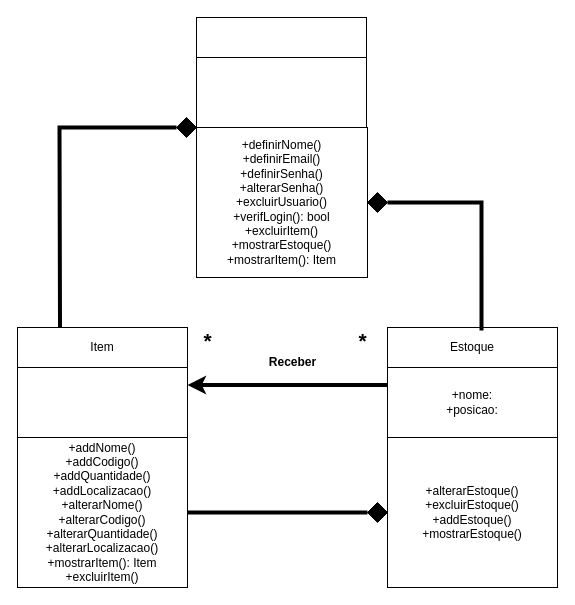
Image size: 575x605. Some labels were removed from this diagram. The centre of each missing label's shape, as x and y in pixels:
+nome: String +codigo: String +quantidade: Int +localizacao: String: (102,402)
-nome: String -email: String -senha: String: (281,92)
Usuário: (281,37)
